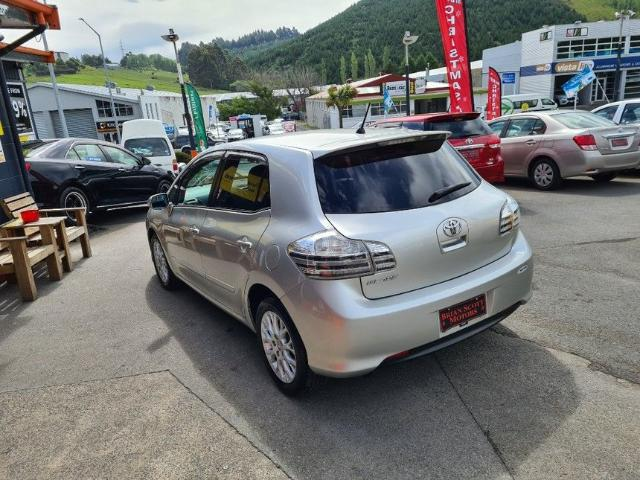licence-plate: (441, 292, 487, 333)
